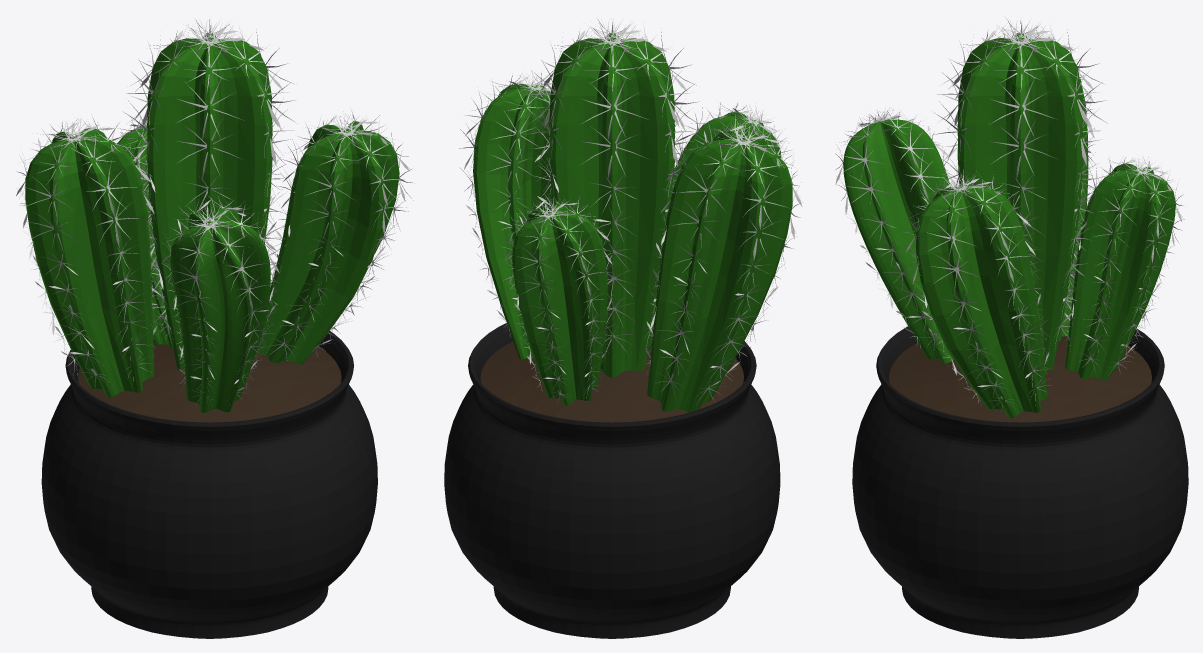
The model's file is cactus.obj.
3 renders of one model, left to right at view 1: azimuth 30°, elevation 25°; view 2: azimuth 150°, elevation 25°; view 3: azimuth 270°, elevation 25°, orthographic.
Visible parts, largest first — view 1: Circle.016_Circle.031, Circle.019_Circle.035, Circle.014_Circle.009, Circle.018_Circle.033, Circle.017_Circle.034, forest-floor-458775_1280, Circle.005, Circle.003, Circle.001, Circle.002, Circle.021_Circle.036; view 2: Circle.016_Circle.031, Circle.014_Circle.009, Circle.019_Circle.035, Circle.021_Circle.036, Circle.018_Circle.033, forest-floor-458775_1280, Circle.005, Circle.003, Circle.000, Circle.001, Circle.017_Circle.034, Circle.002; view 3: Circle.016_Circle.031, Circle.014_Circle.009, Circle.018_Circle.033, Circle.021_Circle.036, Circle.017_Circle.034, forest-floor-458775_1280, Circle.005, Circle.001, Circle.000, Circle.002, Circle.019_Circle.035.
Boxes of the visible parts, x1,y1,x2,y2 form: Circle.016_Circle.031: (41,331,377,638); Circle.019_Circle.035: (25,128,154,397); Circle.014_Circle.009: (147,33,272,370); Circle.018_Circle.033: (256,121,399,364); Circle.017_Circle.034: (170,206,270,412); forest-floor-458775_1280: (78,341,341,422); Circle.005: (121,18,295,342); Circle.003: (16,114,158,389); Circle.001: (269,110,414,360); Circle.002: (161,194,279,404); Circle.021_Circle.036: (117,125,172,348); Circle.016_Circle.031: (444,323,780,638); Circle.014_Circle.009: (549,33,675,377); Circle.019_Circle.035: (647,131,792,412); Circle.021_Circle.036: (512,204,607,405); Circle.018_Circle.033: (473,83,552,358); forest-floor-458775_1280: (480,341,743,422); Circle.005: (525,17,698,355); Circle.003: (645,119,802,403); Circle.000: (503,196,613,402); Circle.001: (459,71,552,337); Circle.017_Circle.034: (648,112,781,349); Circle.002: (675,102,791,167); Circle.016_Circle.031: (852,326,1188,638); Circle.014_Circle.009: (957,33,1083,370); Circle.018_Circle.033: (916,184,1047,418); Circle.021_Circle.036: (1065,163,1175,380); Circle.017_Circle.034: (843,119,953,363); forest-floor-458775_1280: (889,336,1151,422); Circle.005: (934,17,1107,348); Circle.001: (901,169,1052,412); Circle.000: (1064,155,1184,374); Circle.002: (835,108,956,353); Circle.019_Circle.035: (1058,77,1088,340).
Size of the model in its own units: 14.79 by 22.46 by 12.83.
